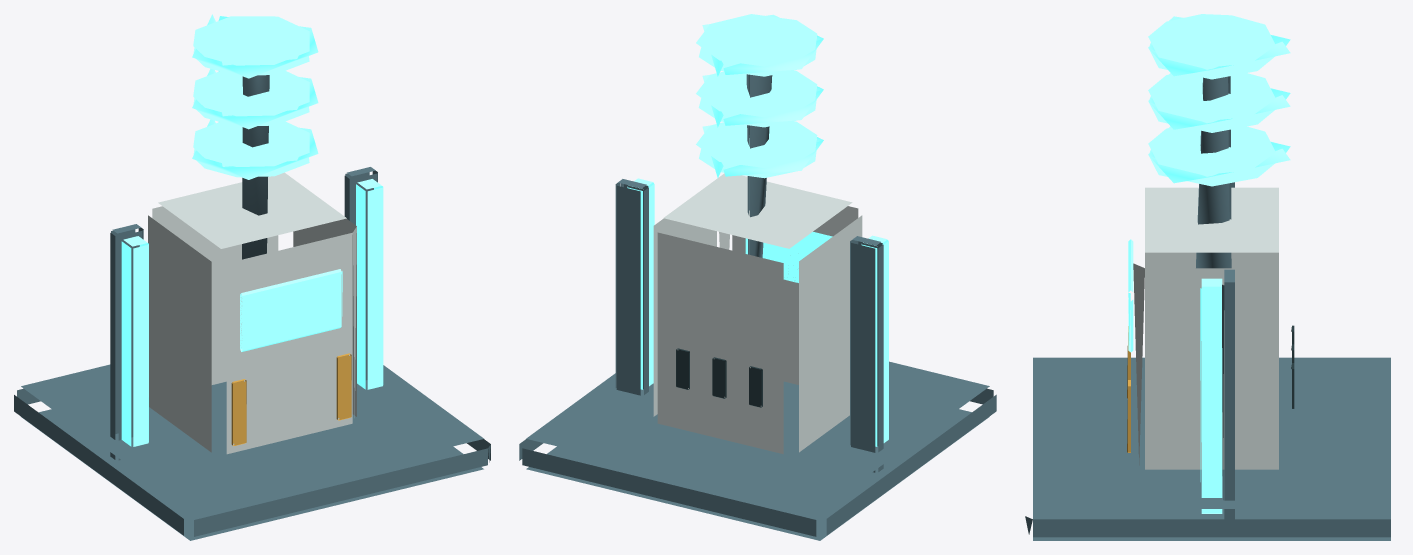
The model's file is relay.glb.
3 views of the same model, side by side, from view 1: azimuth 30°, elevation 25°; view 2: azimuth 150°, elevation 25°; view 3: azimuth 270°, elevation 25° (orthographic). The views are drawn at different scales.
Parts seen in each view (by area): view 1: Signal cabinet, Foundation, Signal halo.002, Display, Corner signal, Corner signal.001, Signal halo, Signal halo.001, Protected corner, Mast, Protected corner.001, Warning stripe (+1 smaller); view 2: Signal cabinet, Foundation, Protected corner, Protected corner.001, Signal halo.002, Signal halo, Signal halo.001, Corner signal, Mast, Corner signal.001, Display, Cabinet vent.001; view 3: Foundation, Signal cabinet, Signal halo.002, Signal halo.001, Signal halo, Corner signal.001, Mast, Protected corner.001, Display.
Part boxes in pixels (<box>): Signal cabinet: <box>148,172,356,454</box>; Foundation: <box>14,364,490,540</box>; Signal halo.002: <box>192,14,318,78</box>; Display: <box>240,269,342,351</box>; Corner signal: <box>121,236,148,446</box>; Corner signal.001: <box>356,179,383,389</box>; Signal halo: <box>192,119,318,179</box>; Signal halo.001: <box>192,68,318,129</box>; Protected corner: <box>110,224,143,461</box>; Mast: <box>242,75,269,259</box>; Protected corner.001: <box>344,167,377,380</box>; Warning stripe: <box>231,379,246,445</box>; Signal cabinet: <box>653,173,862,454</box>; Foundation: <box>519,361,996,540</box>; Protected corner: <box>850,236,883,473</box>; Protected corner.001: <box>615,179,648,395</box>; Signal halo.002: <box>696,14,823,76</box>; Signal halo: <box>696,121,823,178</box>; Signal halo.001: <box>696,70,823,127</box>; Corner signal: <box>861,235,888,446</box>; Mast: <box>746,74,772,257</box>; Corner signal.001: <box>627,178,654,389</box>; Display: <box>745,232,832,282</box>; Cabinet vent.001: <box>712,357,726,398</box>; Foundation: <box>1025,357,1390,540</box>; Signal cabinet: <box>1133,187,1278,469</box>; Signal halo.002: <box>1148,14,1290,79</box>; Signal halo.001: <box>1148,73,1290,132</box>; Signal halo: <box>1148,126,1290,186</box>; Corner signal.001: <box>1200,278,1222,513</box>; Mast: <box>1196,76,1231,268</box>; Protected corner.001: <box>1222,269,1234,519</box>; Display: <box>1128,239,1133,352</box>.
Size of the model in its own units: 3.8 by 4.76 by 3.8.
